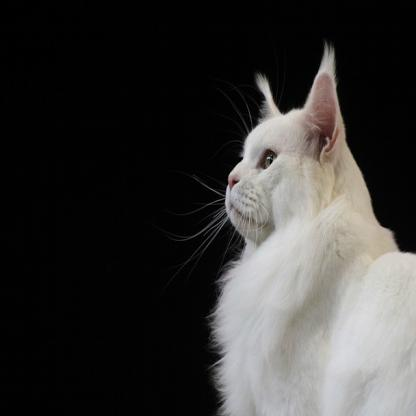cat: (218, 70, 415, 415)
